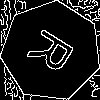R: (26, 26, 84, 81)
